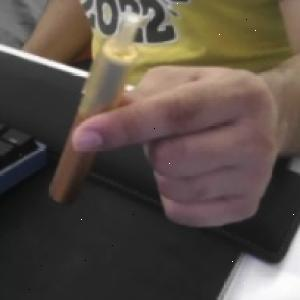Golden-E-Ciggirate: (41, 10, 149, 209)
